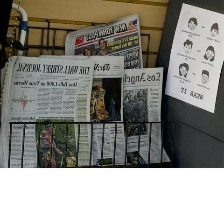news_paper: (0, 54, 96, 167), (41, 54, 126, 166), (101, 63, 172, 166), (59, 9, 146, 75)
